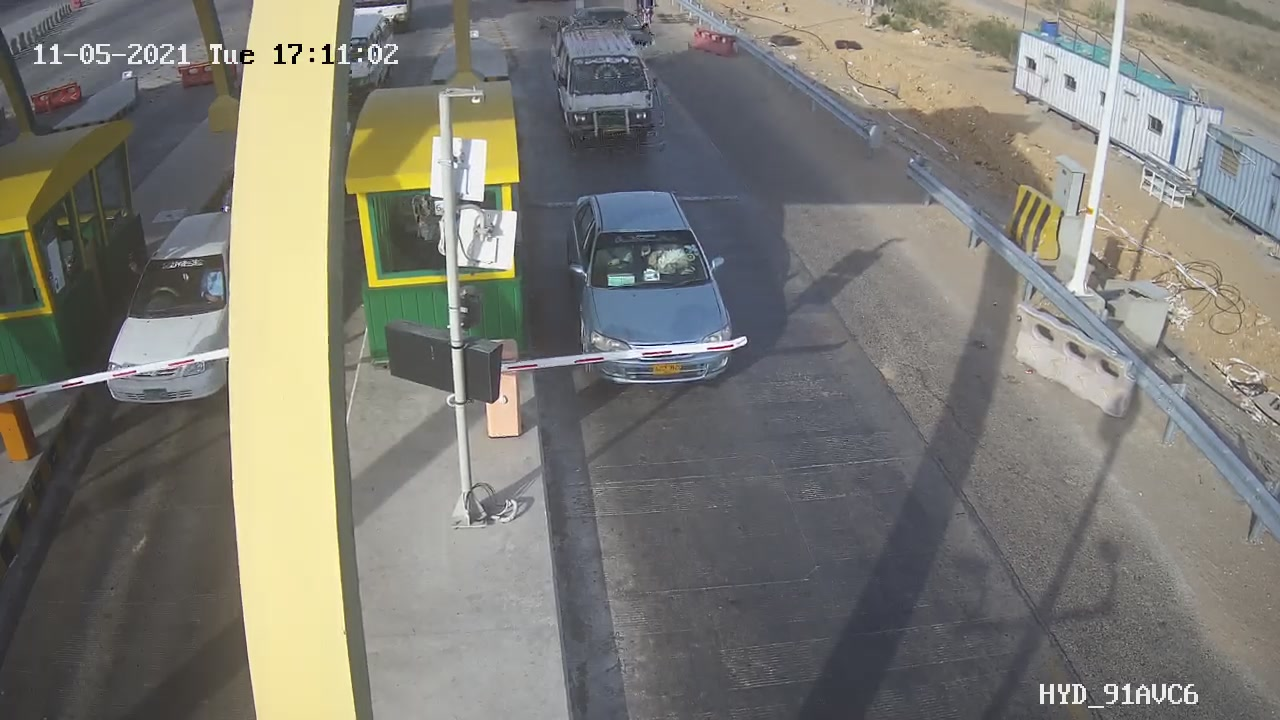F1: (557, 188, 745, 405)
F2: (540, 11, 673, 156)
